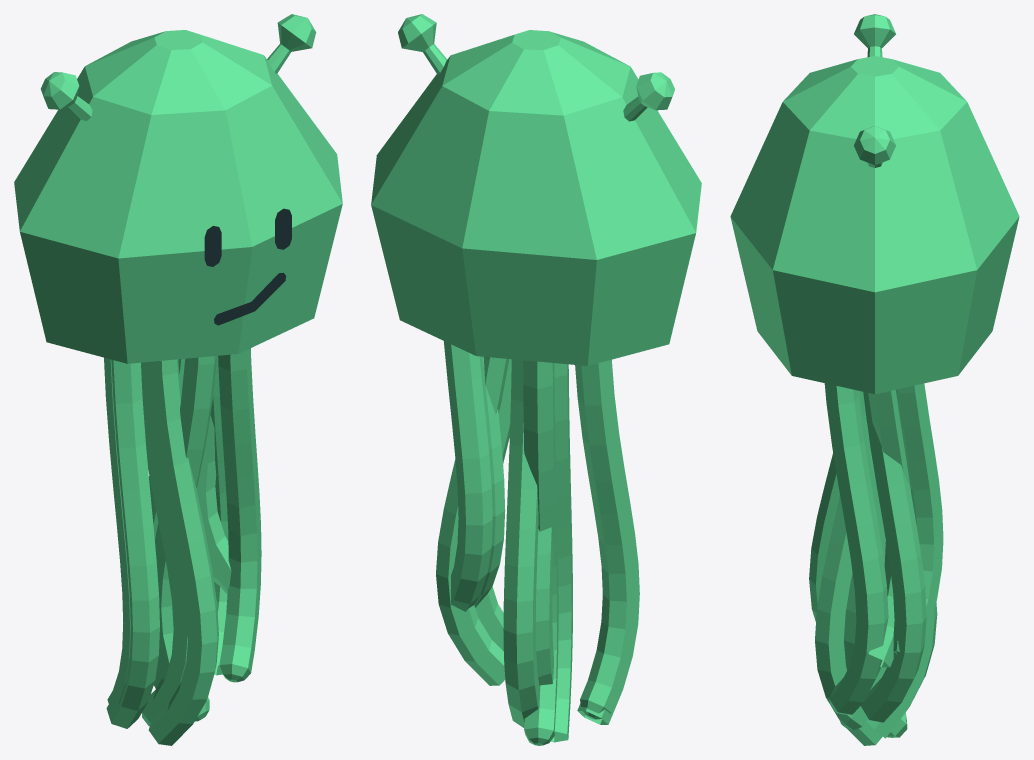
The model's file is player.fbx.
3 renders of one model, left to right at view 1: azimuth 30°, elevation 25°; view 2: azimuth 150°, elevation 25°; view 3: azimuth 270°, elevation 25°, orthographic. The views are drawn at different scales.
Parts seen in each view (by area): view 1: HeadBase, BezierCurve, BezierCurve.008, BezierCurve.001, BezierCurve.007, BezierCurve.005, HeadEars, BezierCurve.006, BezierCurve.004, BezierCurve.003, HeadEyes, HeadMouth; view 2: HeadBase, BezierCurve.006, BezierCurve.002, BezierCurve.009, BezierCurve.005, BezierCurve.003, BezierCurve, HeadEars, BezierCurve.004, BezierCurve.007, BezierCurve.008, BezierCurve.001; view 3: HeadBase, BezierCurve.008, BezierCurve.003, BezierCurve.009, BezierCurve, BezierCurve.004, HeadEars, BezierCurve.001, BezierCurve.007, BezierCurve.002, BezierCurve.005.
Part boxes in pixels (bbox=[...]): HeadBase: bbox=[14, 30, 342, 363]; BezierCurve: bbox=[148, 359, 218, 745]; BezierCurve.008: bbox=[218, 348, 261, 682]; BezierCurve.001: bbox=[106, 359, 159, 728]; BezierCurve.007: bbox=[155, 356, 217, 721]; BezierCurve.005: bbox=[141, 362, 187, 726]; HeadEars: bbox=[40, 14, 316, 120]; BezierCurve.006: bbox=[104, 357, 130, 714]; BezierCurve.004: bbox=[196, 415, 231, 594]; BezierCurve.003: bbox=[210, 356, 228, 675]; HeadEyes: bbox=[204, 208, 291, 266]; HeadMouth: bbox=[214, 272, 285, 325]; HeadBase: bbox=[371, 30, 701, 365]; BezierCurve.006: bbox=[575, 360, 636, 719]; BezierCurve.002: bbox=[503, 359, 539, 727]; BezierCurve.009: bbox=[443, 341, 492, 611]; BezierCurve.005: bbox=[523, 360, 558, 745]; BezierCurve.003: bbox=[436, 357, 509, 685]; BezierCurve: bbox=[550, 363, 572, 742]; HeadEars: bbox=[398, 14, 674, 121]; BezierCurve.004: bbox=[474, 356, 505, 607]; BezierCurve.007: bbox=[535, 527, 553, 685]; BezierCurve.008: bbox=[475, 359, 511, 651]; BezierCurve.001: bbox=[577, 359, 639, 724]; HeadBase: bbox=[730, 56, 1019, 394]; BezierCurve.008: bbox=[824, 383, 888, 714]; BezierCurve.003: bbox=[861, 392, 926, 722]; BezierCurve.009: bbox=[893, 383, 943, 654]; BezierCurve: bbox=[815, 495, 882, 745]; BezierCurve.004: bbox=[867, 390, 910, 667]; HeadEars: bbox=[854, 14, 895, 167]; BezierCurve.001: bbox=[809, 453, 839, 621]; BezierCurve.007: bbox=[838, 390, 886, 730]; BezierCurve.002: bbox=[863, 392, 937, 738]; BezierCurve.005: bbox=[844, 573, 907, 737].
Bounding box in the file's own units: 161 × 339 × 130.
